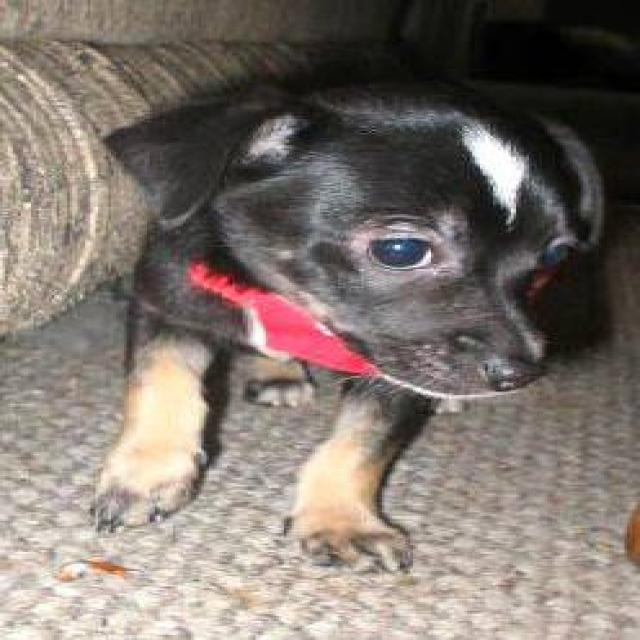dog: (85, 53, 612, 574)
